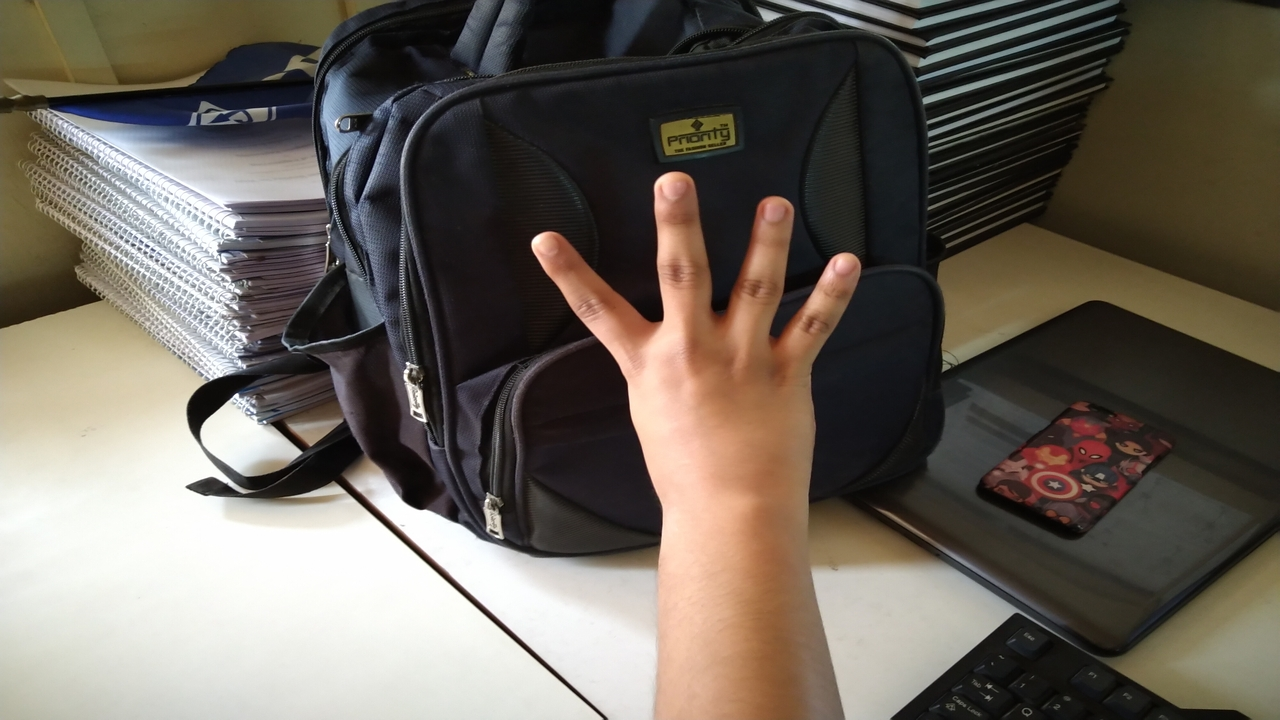fingertip: (646, 162, 706, 218), (810, 242, 868, 296), (742, 184, 800, 236), (522, 222, 582, 272)
